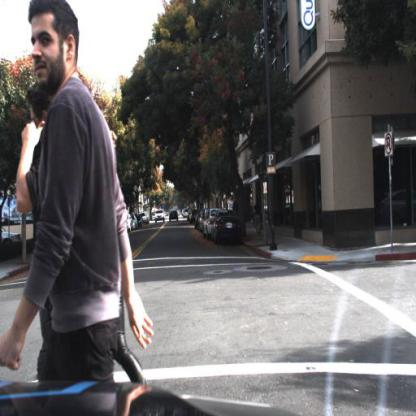car: (211, 208, 248, 252), (205, 211, 217, 242), (155, 207, 167, 223)
pedestrian: (1, 1, 155, 390), (253, 199, 265, 239), (231, 197, 241, 214)
